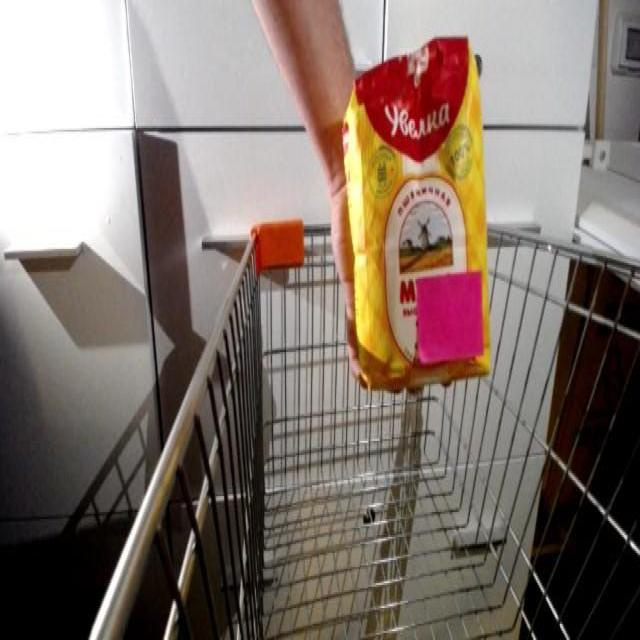Almond Milk: (334, 20, 499, 398)
